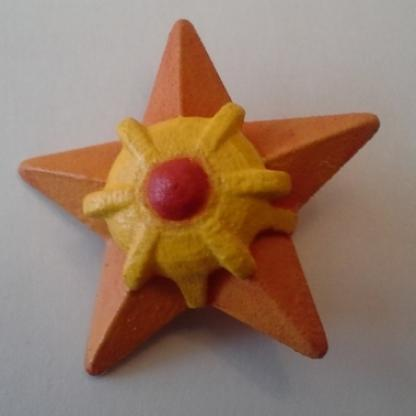Staryu: (13, 19, 395, 383)
